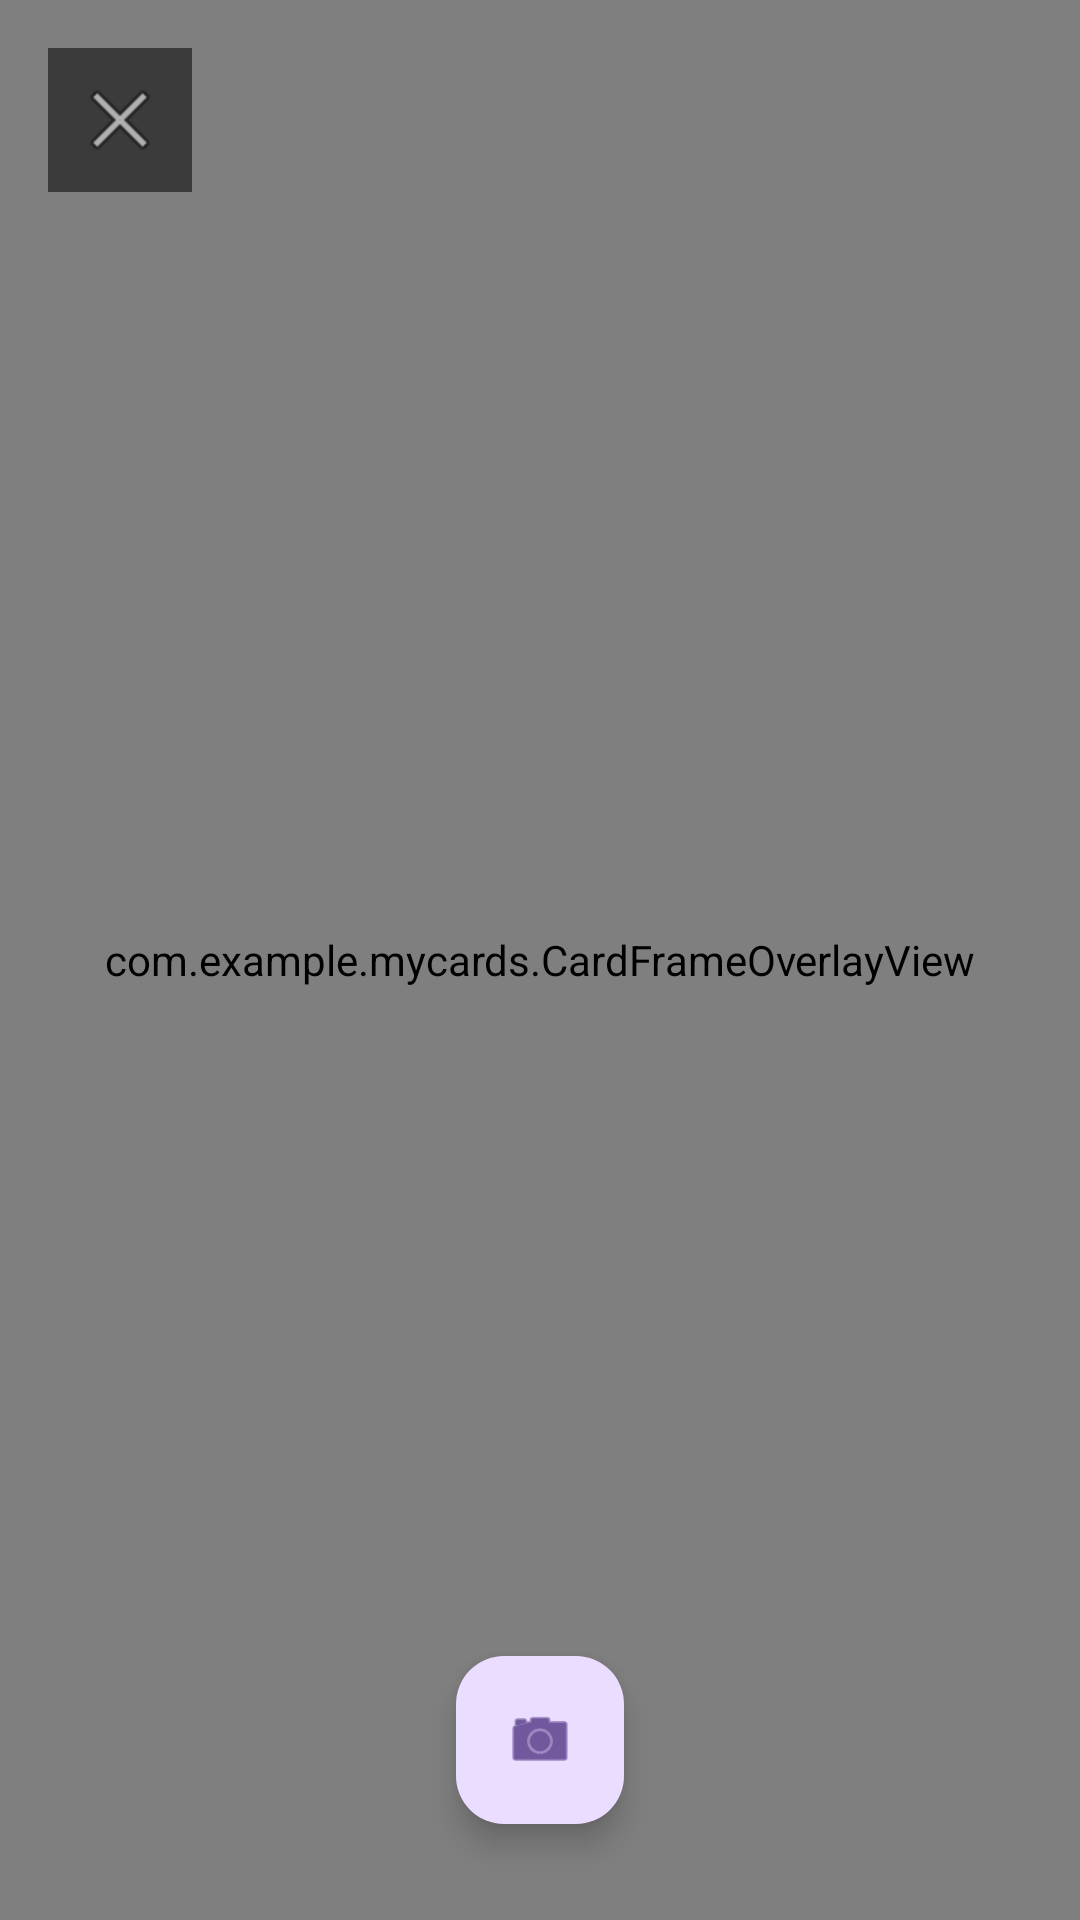

Icons on this 1080*1920 Android screen, each with its box as (x1, y1, x2, y2):
Cancel: (48, 48, 192, 192)
Take photo: (456, 1656, 624, 1824)
